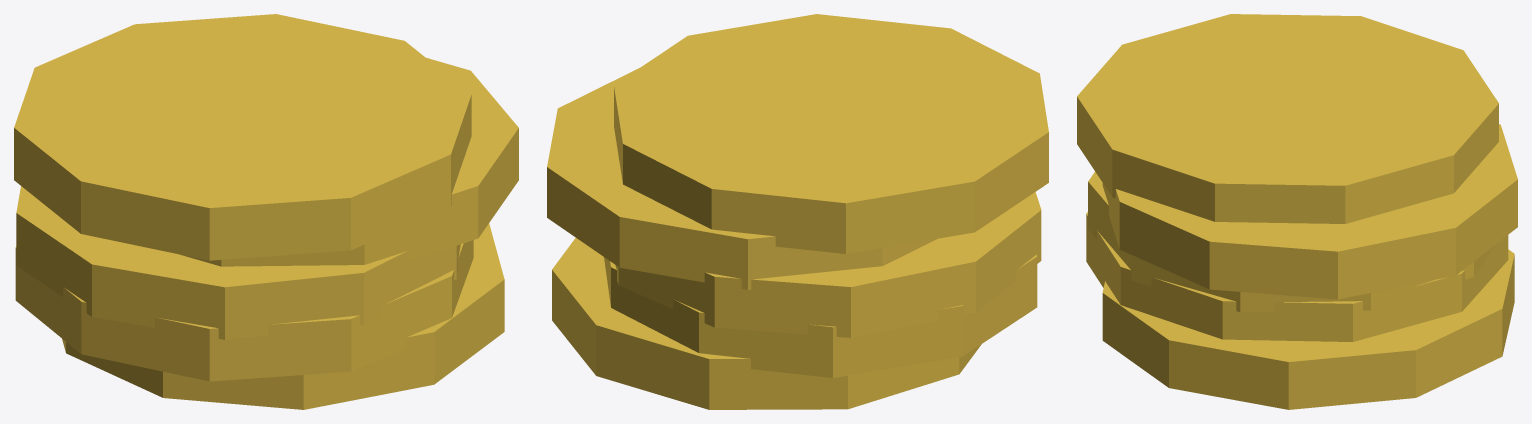
The model's file is coin_pile_whole.glb.
3 views of the same model, side by side, from view 1: azimuth 30°, elevation 25°; view 2: azimuth 150°, elevation 25°; view 3: azimuth 270°, elevation 25° (orthographic). The views are drawn at different scales.
Visible parts, largest first — view 1: coin_pile_whole_0; view 2: coin_pile_whole_0; view 3: coin_pile_whole_0.
Part boxes in pixels (x1,y1,x2,y2): coin_pile_whole_0: (14, 14, 518, 409); coin_pile_whole_0: (547, 14, 1048, 409); coin_pile_whole_0: (1077, 14, 1517, 409).
Size of the model in its own units: 0.2234 by 0.105 by 0.2088.
